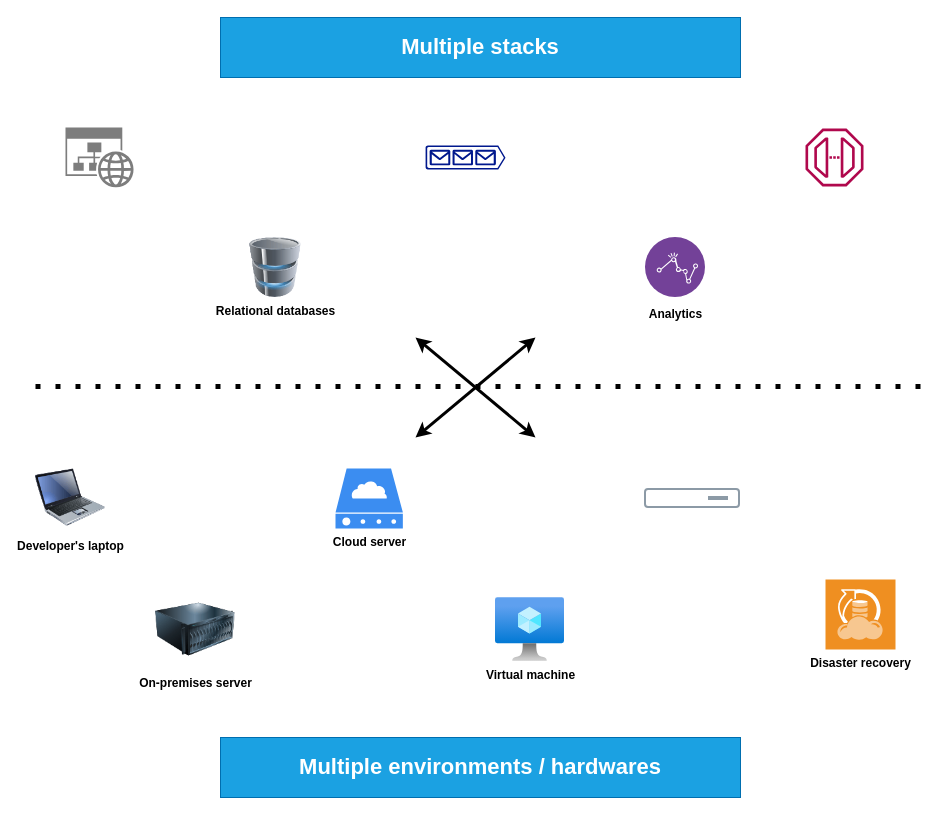
Some shapes in this 946 by 815 pixel diagram are drawn without their labels. The box of each missing label's shape, as (x1, y1, x2, y2) in pixels:
API endpoints: (805, 128, 863, 186)
Bare-metal server: (644, 488, 740, 508)
Queues: (425, 145, 505, 169)
Website: (65, 127, 133, 187)
